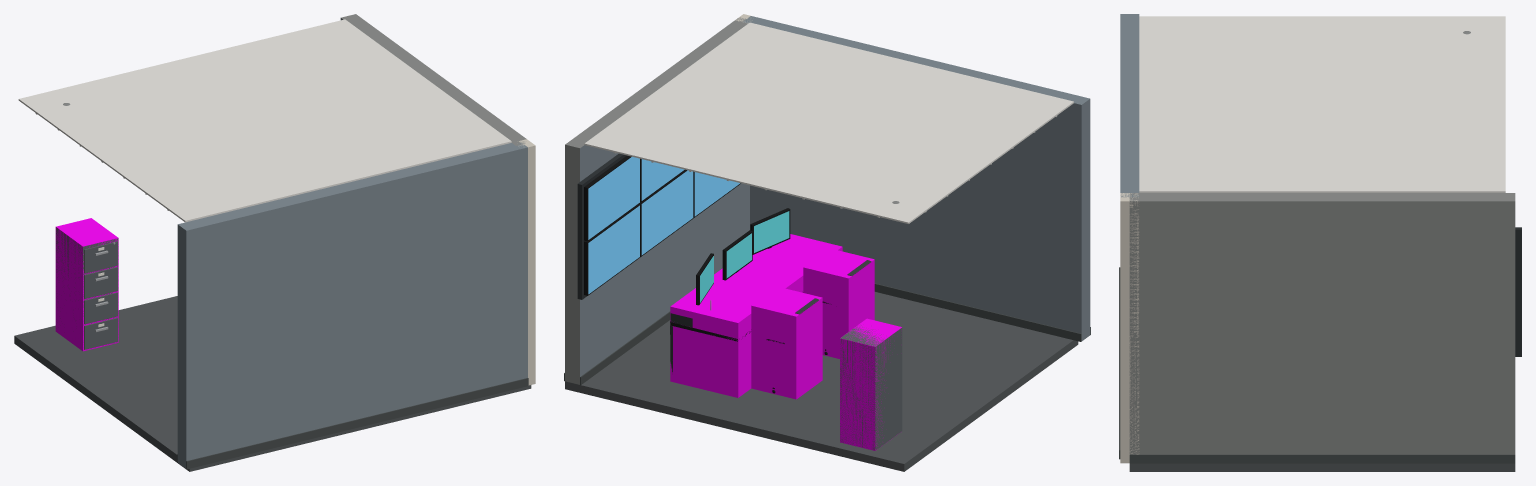
Rendered from ENV_SurveillanceMonitoring.glb.
The picture shows the model from 3 angles, left to right: view 1: azimuth 30°, elevation 25°; view 2: azimuth 150°, elevation 25°; view 3: azimuth 270°, elevation 25°; orthographic projection. The views are drawn at different scales.
Parts seen in each view (by area): view 1: ENV_SurveillanceMonitoring_Architecture, ENV_SurveillanceMonitoring_Ceiling, PROP_Cabinet_Filing_4Drawer_COL-colonly.008, PROP_Cabinet_Filing_4Drawer_Mesh.008, ENV_SurveillanceMonitoring_Posts; view 2: ENV_SurveillanceMonitoring_Architecture, ENV_SurveillanceMonitoring_Ceiling, PROP_Console_SecurityDesk_COL-colonly.001, PROP_VideoWall_3x2_Screens.001, PROP_Chair_Office_COL-colonly.014, PROP_Cabinet_Filing_4Drawer_Mesh.008, PROP_Chair_Office_COL-colonly.013, PROP_Cabinet_Filing_4Drawer_COL-colonly.008, PROP_VideoWall_3x2_Mesh.001, PROP_Console_SecurityDesk_Screens.001, PROP_Console_SecurityDesk_Mesh.001; view 3: ENV_SurveillanceMonitoring_Architecture, ENV_SurveillanceMonitoring_Ceiling, ENV_SurveillanceMonitoring_Posts, PROP_VideoWall_3x2_Mesh.001.
Boxes of the visible parts, left/top/right/bottom form: ENV_SurveillanceMonitoring_Architecture: left=14, top=14, right=531, bottom=471; ENV_SurveillanceMonitoring_Ceiling: left=18, top=19, right=511, bottom=222; PROP_Cabinet_Filing_4Drawer_COL-colonly.008: left=55, top=218, right=118, bottom=351; PROP_Cabinet_Filing_4Drawer_Mesh.008: left=56, top=227, right=118, bottom=349; ENV_SurveillanceMonitoring_Posts: left=518, top=139, right=535, bottom=385; ENV_SurveillanceMonitoring_Architecture: left=564, top=16, right=1090, bottom=471; ENV_SurveillanceMonitoring_Ceiling: left=584, top=22, right=1073, bottom=223; PROP_Console_SecurityDesk_COL-colonly.001: left=670, top=234, right=842, bottom=397; PROP_VideoWall_3x2_Screens.001: left=588, top=157, right=740, bottom=294; PROP_Chair_Office_COL-colonly.014: left=751, top=286, right=822, bottom=399; PROP_Cabinet_Filing_4Drawer_Mesh.008: left=840, top=325, right=902, bottom=450; PROP_Chair_Office_COL-colonly.013: left=803, top=248, right=874, bottom=358; PROP_Cabinet_Filing_4Drawer_COL-colonly.008: left=840, top=318, right=901, bottom=450; PROP_VideoWall_3x2_Mesh.001: left=577, top=153, right=740, bottom=299; PROP_Console_SecurityDesk_Screens.001: left=700, top=211, right=789, bottom=302; PROP_Console_SecurityDesk_Mesh.001: left=670, top=208, right=790, bottom=372; ENV_SurveillanceMonitoring_Architecture: left=1119, top=14, right=1515, bottom=471; ENV_SurveillanceMonitoring_Ceiling: left=1139, top=16, right=1505, bottom=192; ENV_SurveillanceMonitoring_Posts: left=1120, top=193, right=1139, bottom=463; PROP_VideoWall_3x2_Mesh.001: left=1515, top=227, right=1521, bottom=356.
Size of what is drawn, in the model's own units: 4.61 by 3.13 by 4.18.
